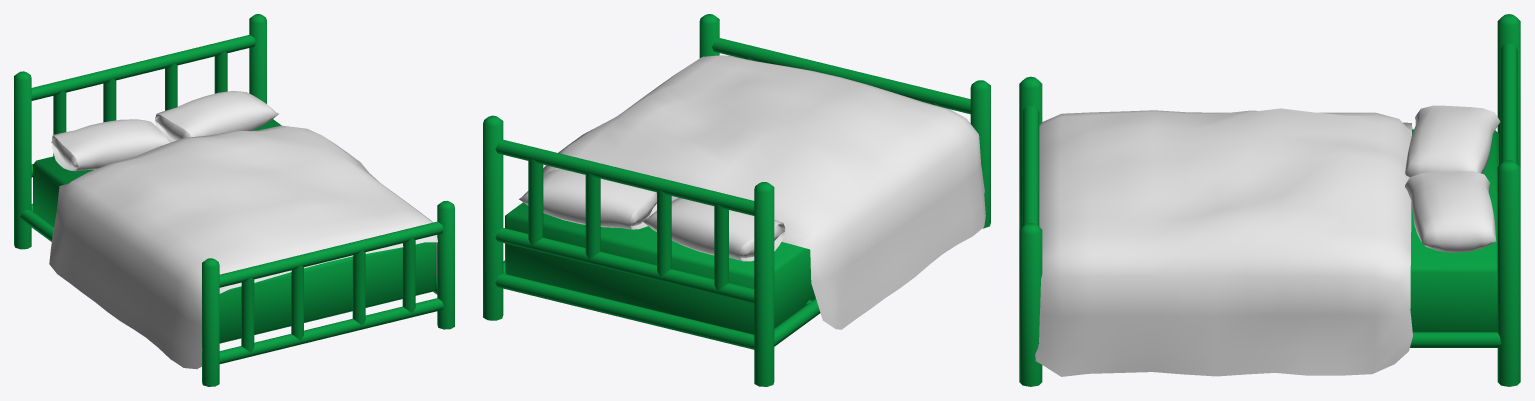
File: CTS_E_CabinBed.fbx
The picture shows the model from 3 angles, left to right: view 1: azimuth 30°, elevation 25°; view 2: azimuth 150°, elevation 25°; view 3: azimuth 270°, elevation 25°; orthographic projection. The views are drawn at different scales.
Visible parts, largest first — view 1: CTS_E_CabinBed; view 2: CTS_E_CabinBed; view 3: CTS_E_CabinBed.
Boxes of the visible parts, bbox=[...] form: CTS_E_CabinBed: bbox=[14, 14, 454, 386]; CTS_E_CabinBed: bbox=[483, 14, 990, 386]; CTS_E_CabinBed: bbox=[1019, 14, 1520, 386].
Size of the model in its own units: 199 by 122 by 252.
